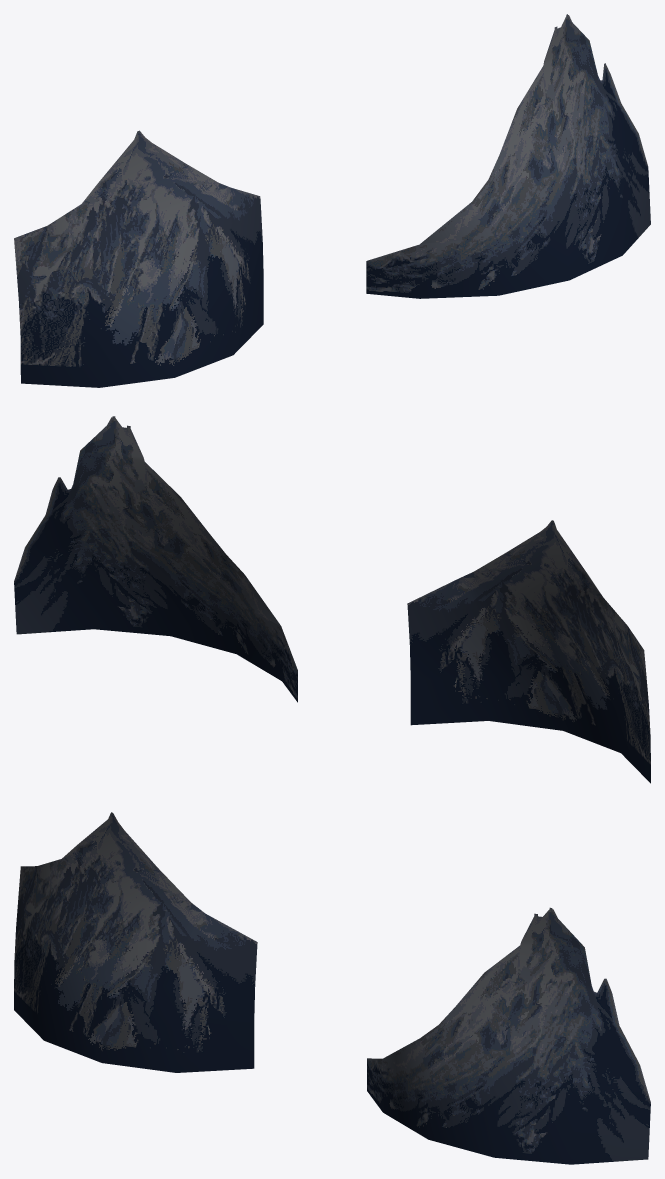
The model's file is BgMD_Mid_Snow_A.FBX.
3 renders of one model, top to bottom at view 1: azimuth 30°, elevation 25°; view 2: azimuth 150°, elevation 25°; view 3: azimuth 330°, elevation 25°, orthographic.
Parts seen in each view (by area): view 1: BgMD_Mid_Snow_A, BgMD_Mid_Snow_A_sharp; view 2: BgMD_Mid_Snow_A, BgMD_Mid_Snow_A_sharp; view 3: BgMD_Mid_Snow_A, BgMD_Mid_Snow_A_sharp.
Part boxes in pixels (x1,y1,x2,y2): BgMD_Mid_Snow_A: (14,130,263,387); BgMD_Mid_Snow_A_sharp: (366,14,650,298); BgMD_Mid_Snow_A: (407,520,650,783); BgMD_Mid_Snow_A_sharp: (14,416,297,702); BgMD_Mid_Snow_A: (14,812,257,1072); BgMD_Mid_Snow_A_sharp: (367,907,650,1164).
Size of the model in its own units: 3676 by 1312 by 410.
